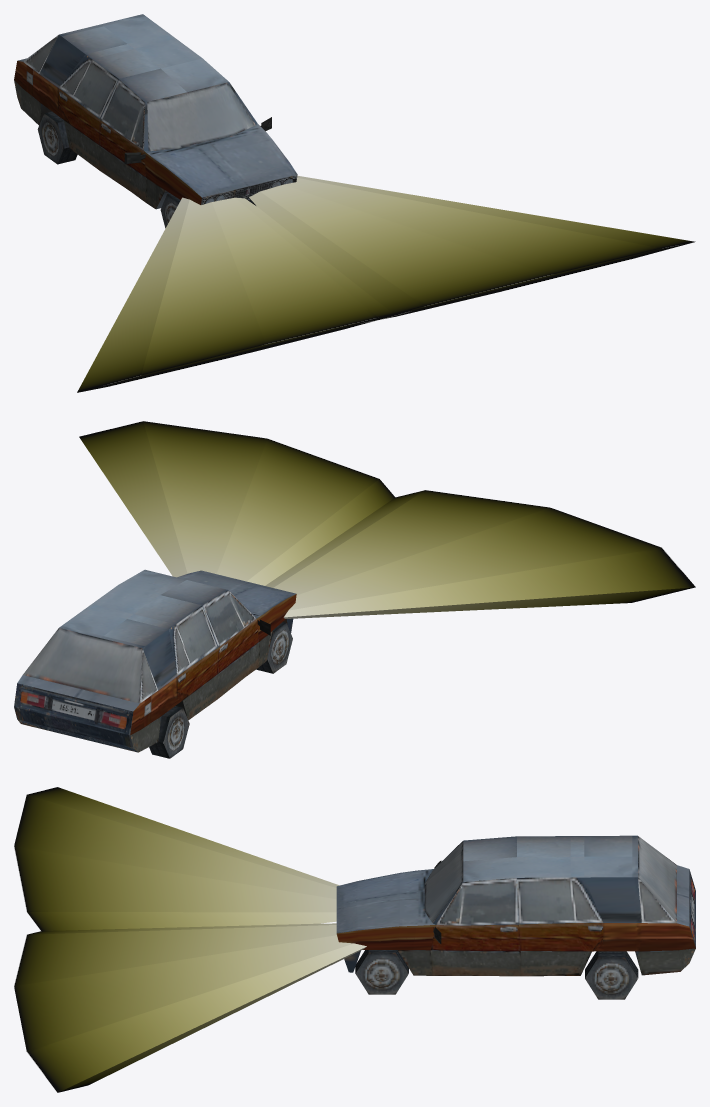
Rendered from RonnerBil.fbx.
3 views of the same model, one above another, from view 1: azimuth 30°, elevation 25°; view 2: azimuth 150°, elevation 25°; view 3: azimuth 270°, elevation 25° (orthographic).
Visible parts, largest first — view 1: Lights, Car; view 2: Lights, Car; view 3: Lights, Car, Door.
Part boxes in pixels (box(x1,y1,x2,y2)): Lights: box(77, 175, 695, 392); Car: box(14, 14, 297, 228); Lights: box(79, 421, 695, 618); Car: box(14, 569, 296, 758); Lights: box(14, 787, 366, 1092); Car: box(336, 835, 695, 999); Door: box(430, 878, 520, 976).
Size of the model in its own units: 930 by 158 by 876.
